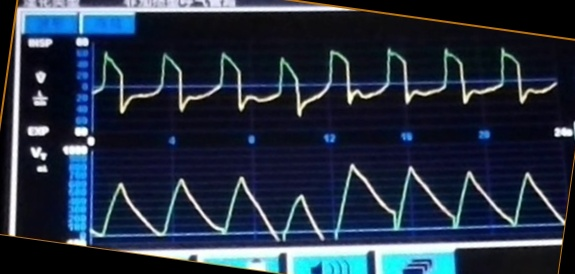Premature_cycling Flow: (95, 43, 562, 122)
Premature_cycling Volume: (96, 160, 559, 239)
